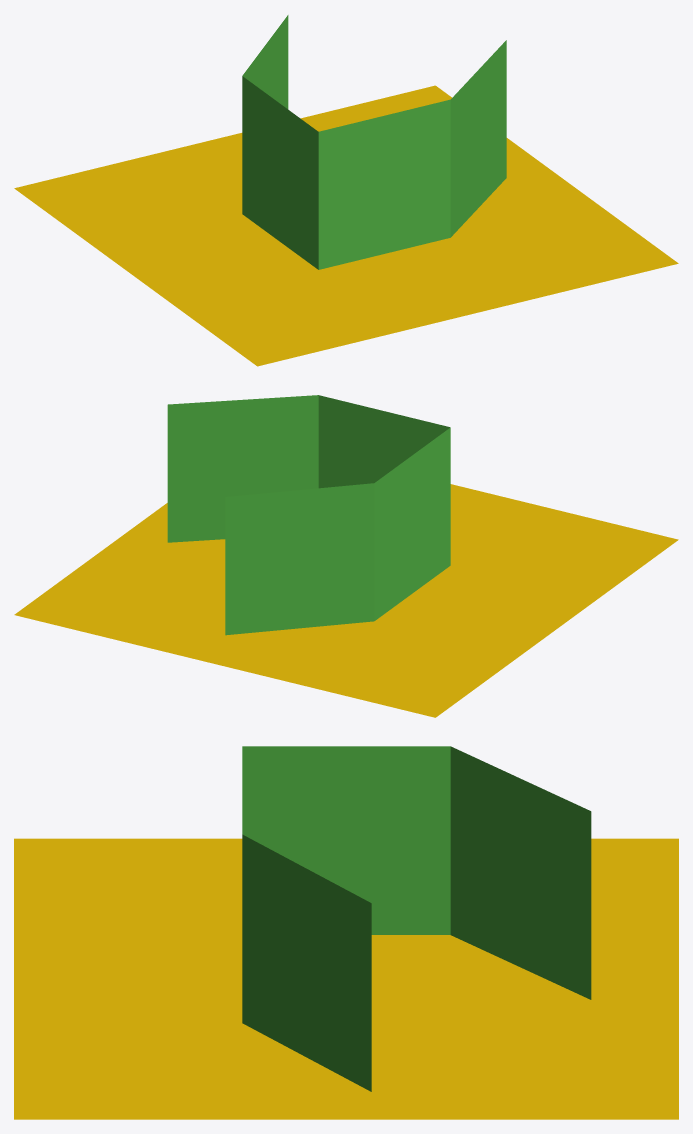
File: platform.fbx
3 views of the same model, one above another, from view 1: azimuth 30°, elevation 25°; view 2: azimuth 150°, elevation 25°; view 3: azimuth 270°, elevation 25° (orthographic). The views are drawn at different scales.
Visible parts, largest first — view 1: Plane, Plane.001, Plane.002, Plane.004, Plane.003; view 2: Plane, Plane.003, Plane.004, Plane.002, Plane.001; view 3: Plane, Plane.002, Plane.003, Plane.004.
Part boxes in pixels (left/top/right/bottom): Plane: left=14, top=85, right=678, bottom=366; Plane.001: left=318, top=99, right=450, bottom=269; Plane.002: left=242, top=76, right=318, bottom=269; Plane.004: left=450, top=40, right=506, bottom=237; Plane.003: left=242, top=15, right=288, bottom=109; Plane: left=14, top=484, right=678, bottom=717; Plane.003: left=225, top=483, right=374, bottom=635; Plane.004: left=167, top=395, right=318, bottom=542; Plane.002: left=374, top=427, right=450, bottom=620; Plane.001: left=318, top=395, right=449, bottom=488; Plane: left=14, top=838, right=678, bottom=1119; Plane.002: left=242, top=746, right=450, bottom=934; Plane.003: left=450, top=746, right=591, bottom=999; Plane.004: left=242, top=834, right=371, bottom=1091.
Bounding box in the file's own units: 8543 × 2677 × 8543.
